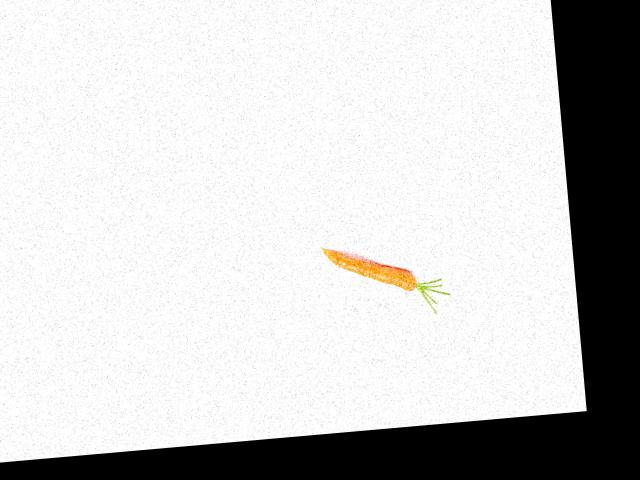carrot: (319, 238, 429, 306)
